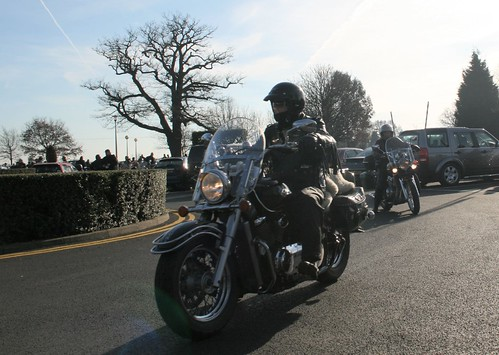helmet: (261, 79, 309, 122)
